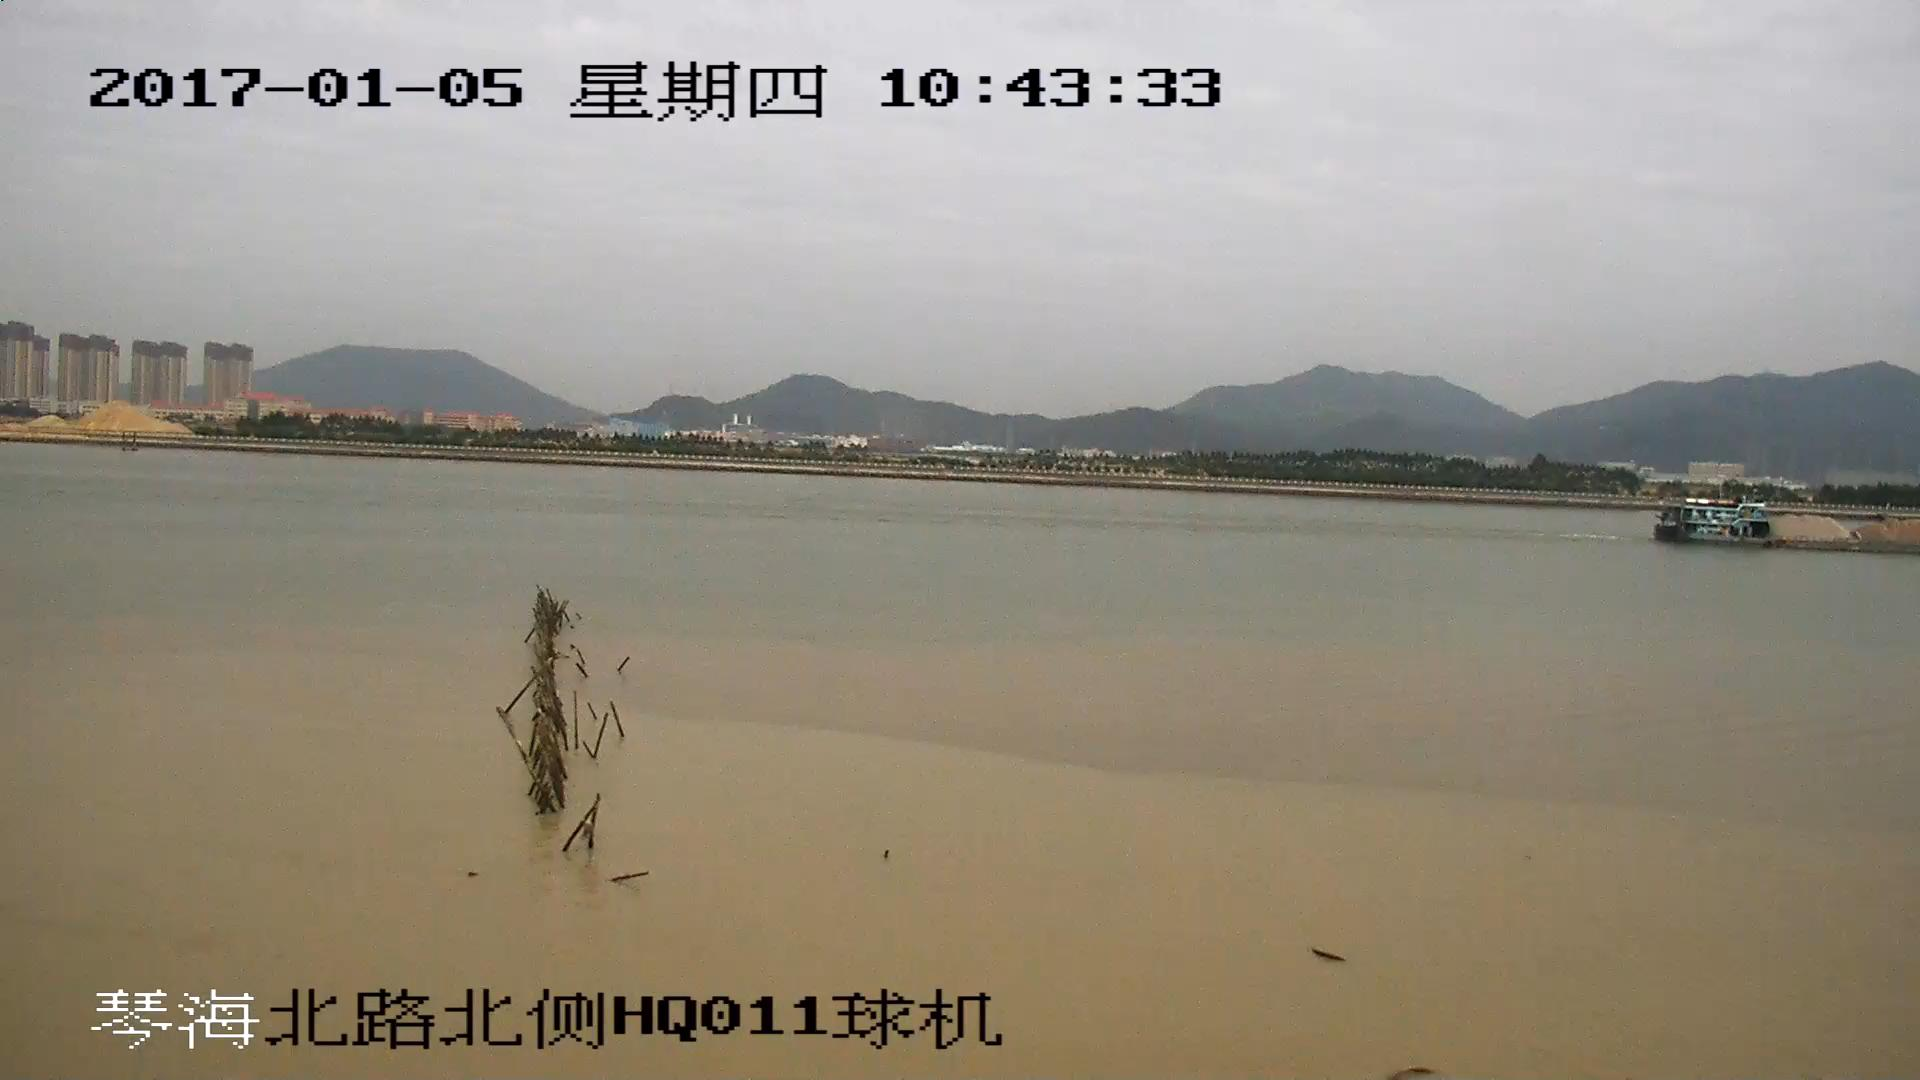ore carrier: (1652, 500, 1920, 559)
